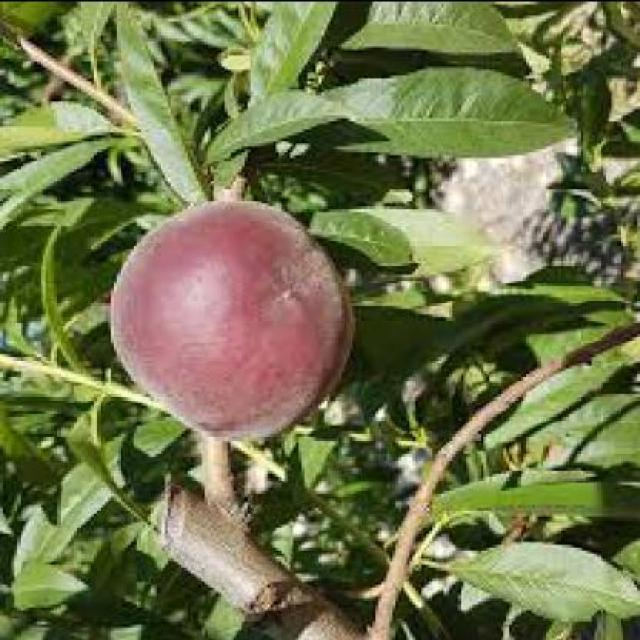BIODEGRADABLE: (107, 199, 356, 441)
